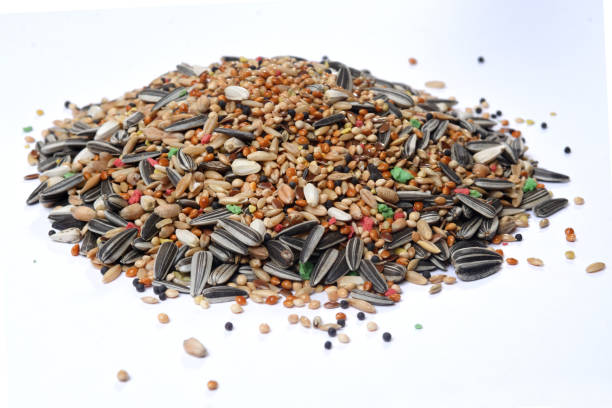seed: (23, 42, 572, 327)
